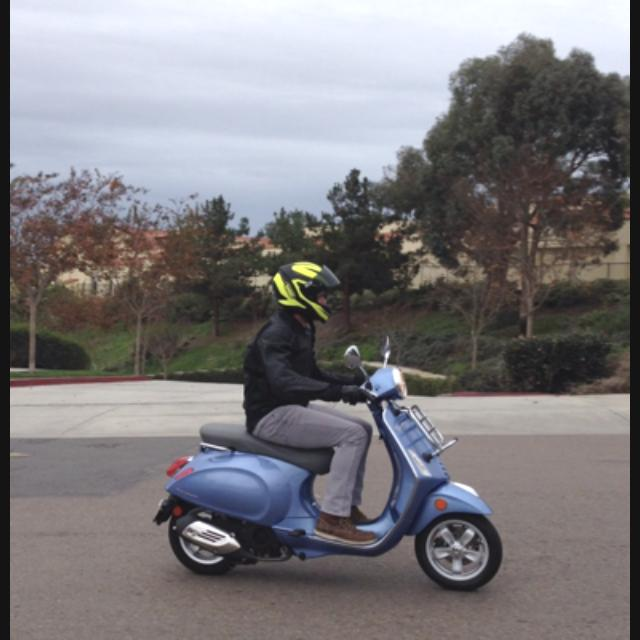With Helmet: (262, 251, 352, 329)
